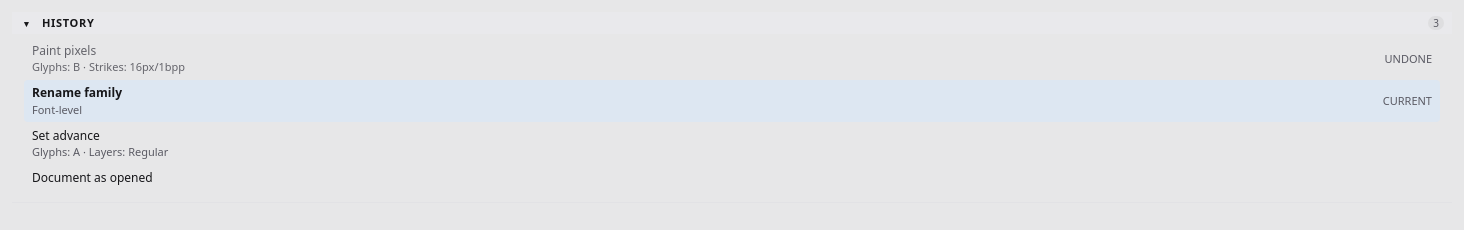
Test: reloads and says so when the timeline moved under the list
The image size is (1464, 230).
Click the button with aria-label "Go to Set advance" at (66, 135), box [24,123,1440,164]
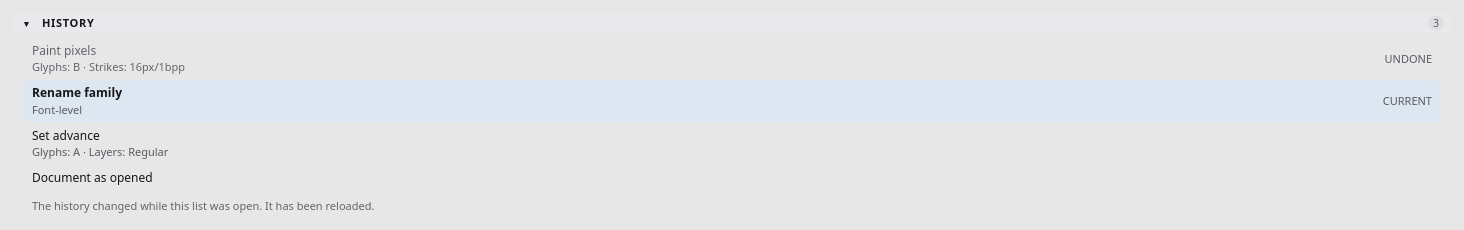
Result: the text "The history changed while this list was open. It has been reloaded." is shown at [32,198,374,213]
